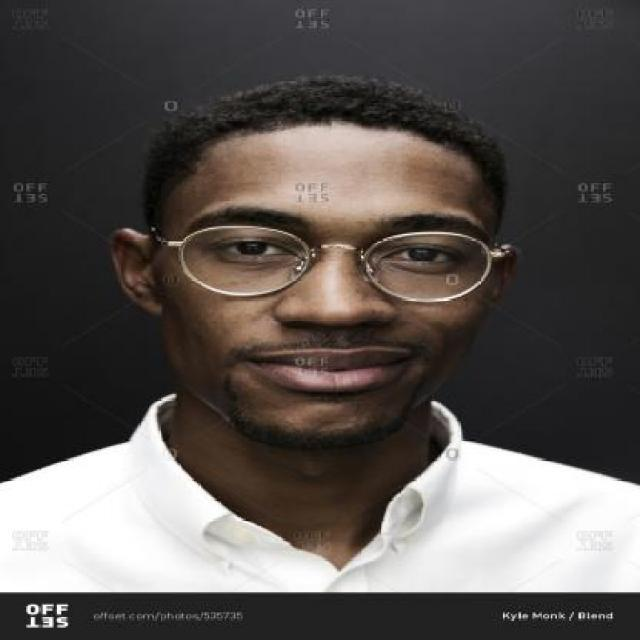glasses: (144, 218, 514, 310)
